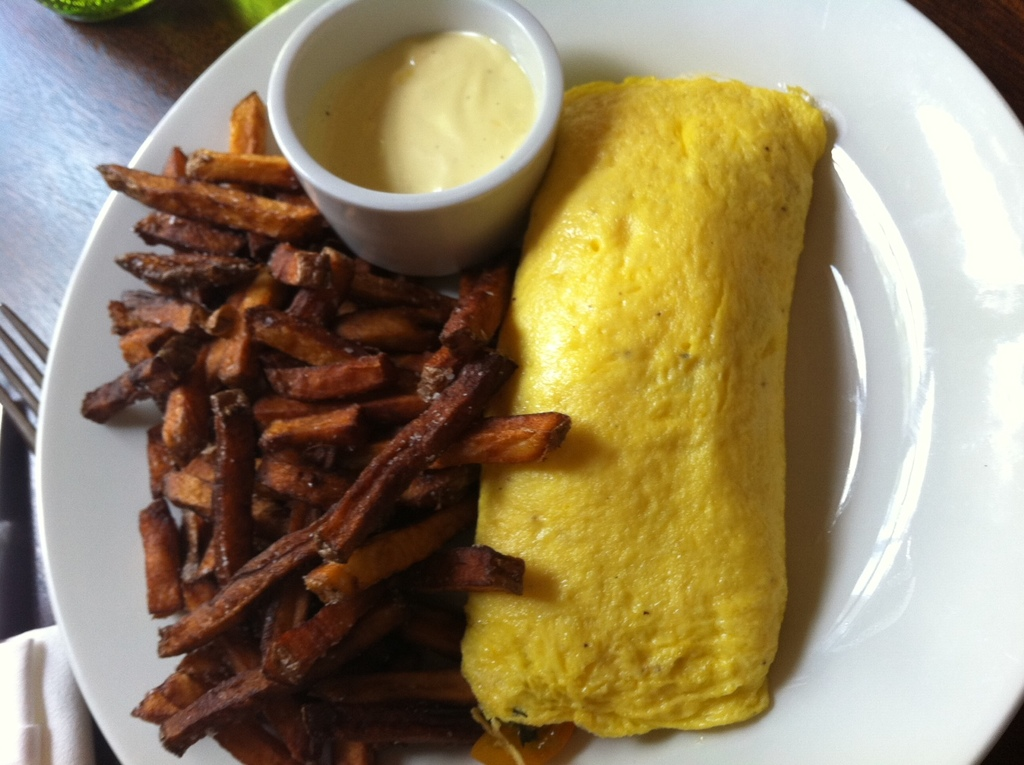French fries: (114, 165, 549, 711)
